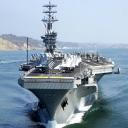Portanaves: (19, 1, 123, 126)
